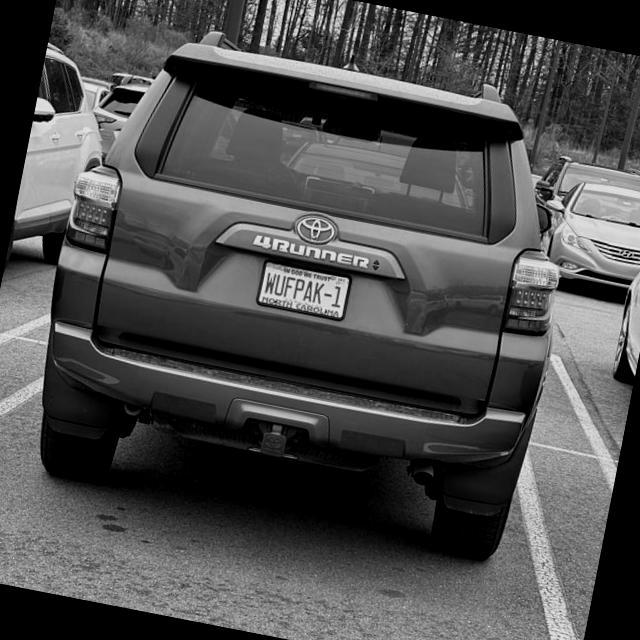LicensePlate: (255, 259, 354, 323)
